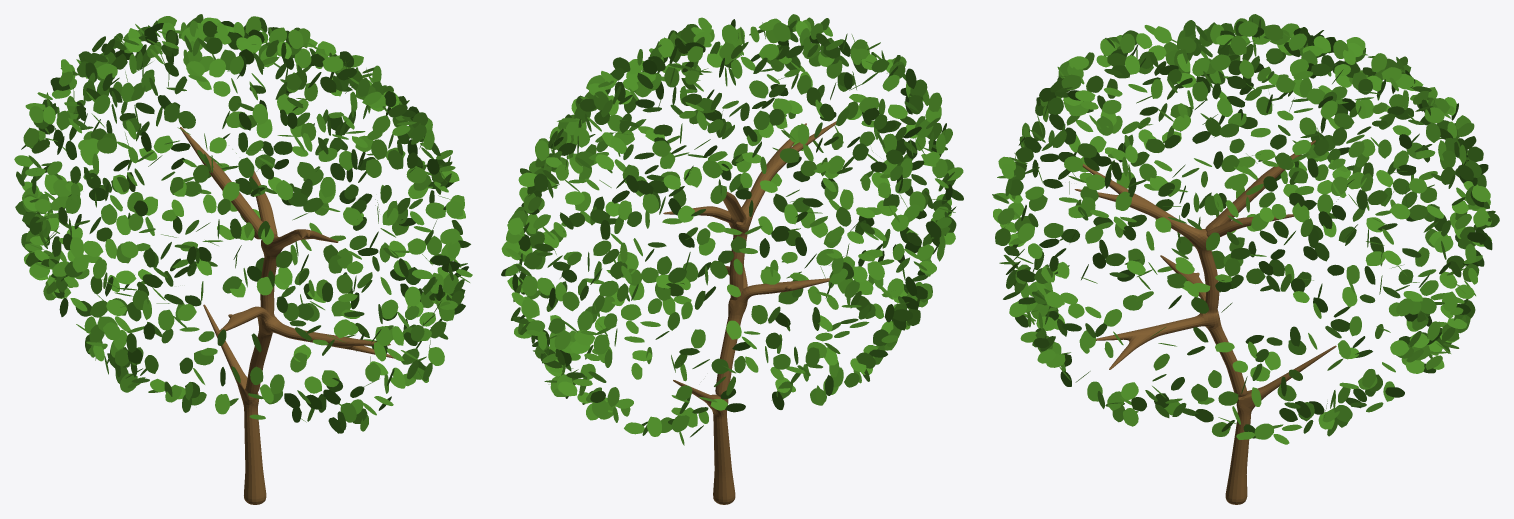
The model's file is Dalbergia.fbx.
3 views of the same model, side by side, from view 1: azimuth 30°, elevation 25°; view 2: azimuth 150°, elevation 25°; view 3: azimuth 270°, elevation 25° (orthographic). The views are drawn at different scales.
Visible parts, largest first — view 1: MI_LOD1_002.003; view 2: MI_LOD1_002.003; view 3: MI_LOD1_002.003.
Boxes of the visible parts, x1=… form: MI_LOD1_002.003: x1=14, y1=14, x2=472, y2=504; MI_LOD1_002.003: x1=501, y1=14, x2=963, y2=504; MI_LOD1_002.003: x1=992, y1=14, x2=1499, y2=504.
Bounding box in the file's own units: 377 × 456 × 469.
